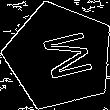M_W: (29, 28, 90, 85)
